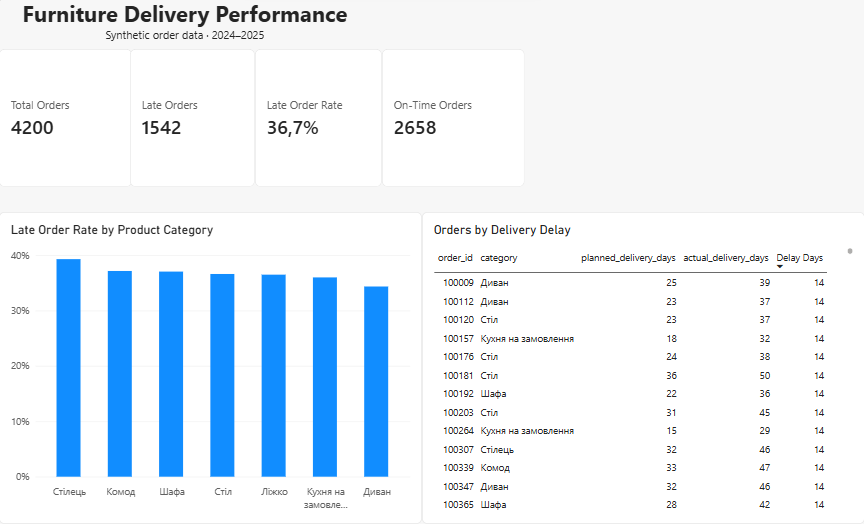

Layout of this report page (visuals, bound fields, positions):
{"tool":"powerbi","page":{"name":"Strona 1","canvas":[1920,1080],"ordinal":0},"visuals":[{"type":"cardVisual","fields":{"Data":["furniture_sales.Total Orders"]},"box":[0,74.4,194,201.3],"z":0},{"type":"cardVisual","fields":{"Data":["furniture_sales.Late Orders"]},"box":[191.1,74.4,182.4,201.3],"z":1000},{"type":"cardVisual","fields":{"Data":["furniture_sales.Late Order Rate"]},"box":[373.5,74.4,185.3,201.3],"z":2000},{"type":"clusteredColumnChart","title":"Late Order Rate by Product Category","fields":{"Category":["furniture_sales.category"],"Y":["furniture_sales.Late Order Rate"]},"box":[0,312.2,617.1,455.2],"z":3000},{"type":"tableEx","title":"Orders by Delivery Delay","fields":{"Values":["furniture_sales.order_id","furniture_sales.category","furniture_sales.planned_delivery_days","furniture_sales.actual_delivery_days","furniture_sales.Delay Days"]},"box":[617.1,312.2,646.3,455.2],"z":4000},{"type":"textbox","box":[0,0,542.7,74.4],"z":4001},{"type":"cardVisual","fields":{"Data":["furniture_sales.On-Time Orders"]},"box":[558.8,74.4,208.6,201.3],"z":4002}]}

Visuals, with their boxes on the page's 1920x1080 design canvas (x1, y1, x2, y2). These are canvas units, not pixel positions in the 864x524 screenshot, which may show the page scaled, cropped or inside an application window:
cardVisual - furniture_sales.Total Orders: Rect(0, 74, 194, 276)
cardVisual - furniture_sales.Late Orders: Rect(191, 74, 374, 276)
cardVisual - furniture_sales.Late Order Rate: Rect(374, 74, 559, 276)
"Late Order Rate by Product Category" clusteredColumnChart: Rect(0, 312, 617, 767)
"Orders by Delivery Delay" tableEx: Rect(617, 312, 1263, 767)
textbox: Rect(0, 0, 543, 74)
cardVisual - furniture_sales.On-Time Orders: Rect(559, 74, 767, 276)
